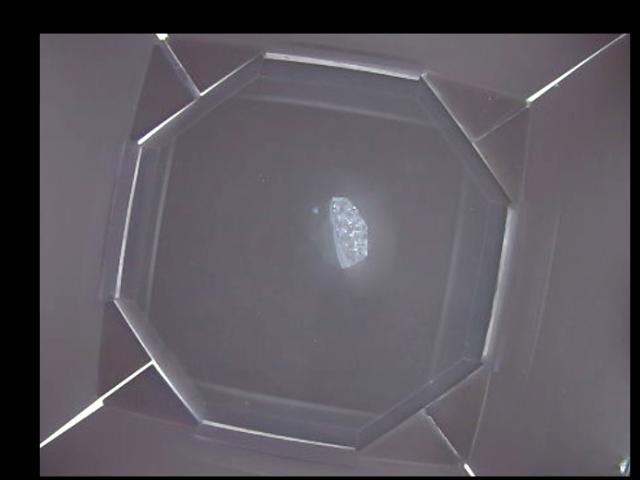China: (330, 195, 368, 265)
